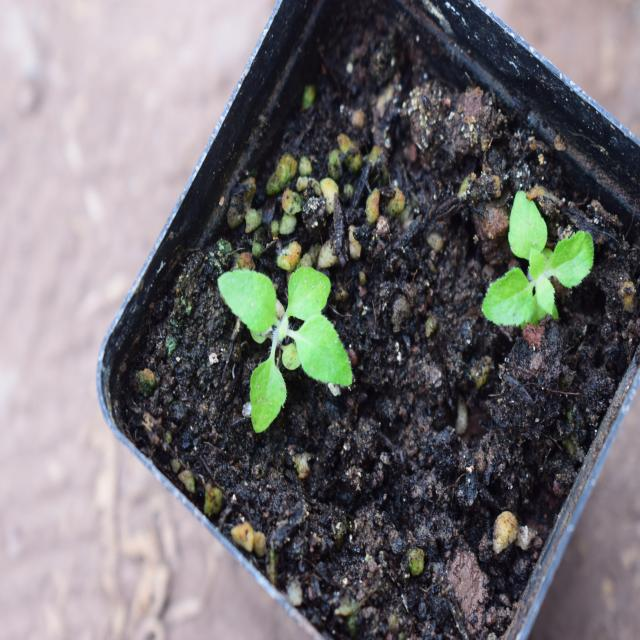billygoat_weed: (204, 250, 357, 408), (481, 185, 598, 344)
